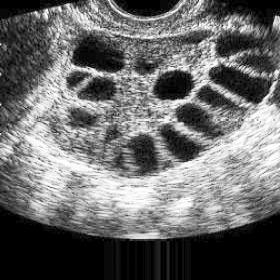PCOS: (215, 64, 269, 102), (76, 39, 128, 73), (203, 81, 240, 124), (180, 105, 224, 140), (128, 135, 163, 172), (161, 127, 193, 166), (216, 34, 260, 56), (235, 46, 277, 69), (159, 77, 189, 99), (66, 109, 97, 129), (138, 50, 161, 76), (102, 122, 121, 143), (89, 76, 107, 97), (65, 70, 77, 82)
